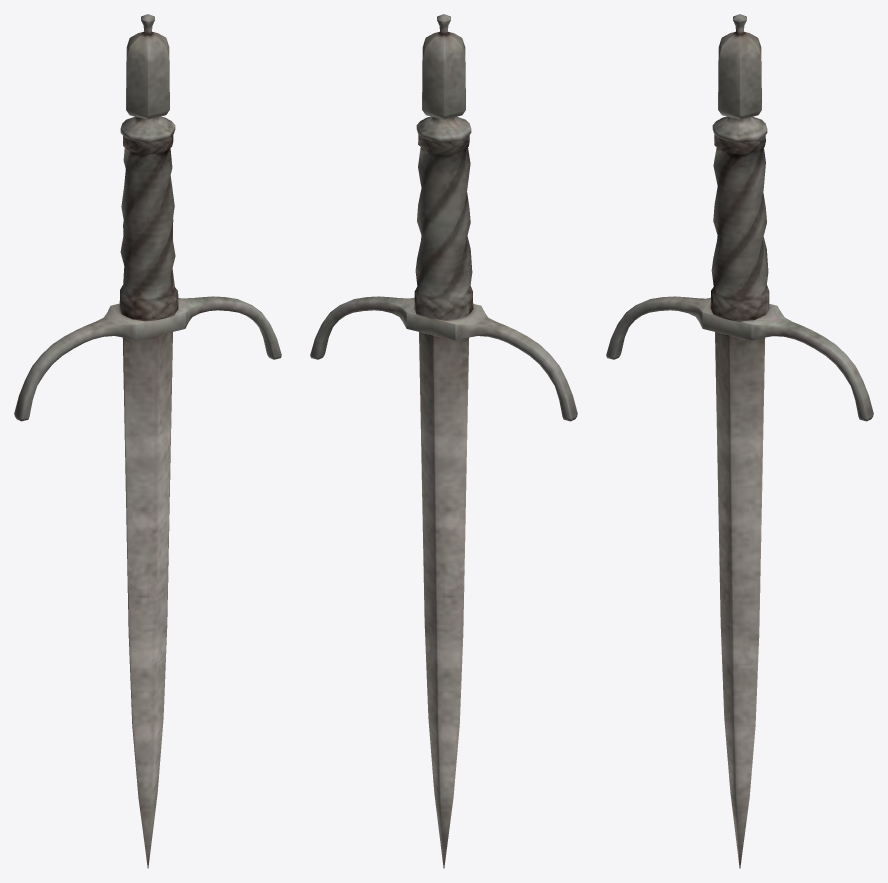
The model's file is weapon-wp_a_0102.glb.
The picture shows the model from 3 angles, left to right: view 1: azimuth 30°, elevation 25°; view 2: azimuth 150°, elevation 25°; view 3: azimuth 330°, elevation 25°; orthographic projection.
Visible parts, largest first — view 1: wp_a_0102_mesh; view 2: wp_a_0102_mesh; view 3: wp_a_0102_mesh.
Boxes of the visible parts, x1=… form: wp_a_0102_mesh: x1=14, y1=14, x2=281, y2=868; wp_a_0102_mesh: x1=310, y1=14, x2=577, y2=868; wp_a_0102_mesh: x1=606, y1=14, x2=873, y2=868.
Size of the model in its own units: 0.1906 by 0.5901 by 0.0347.
1 material, 1 textured.
